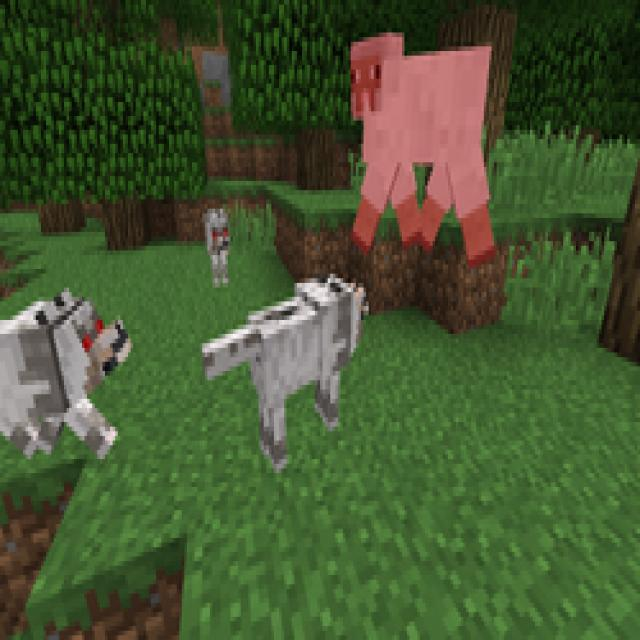Wolf: (201, 274, 367, 473), (0, 288, 133, 459), (206, 208, 232, 288)
